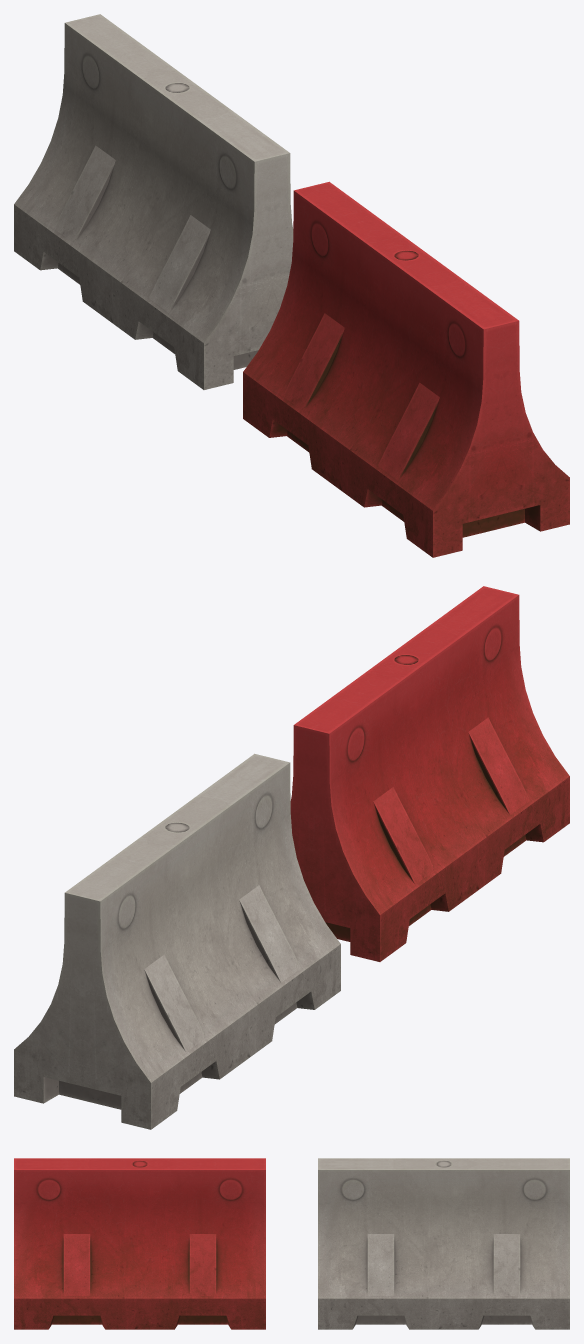
3 views of the same model, one above another, from view 1: azimuth 30°, elevation 25°; view 2: azimuth 150°, elevation 25°; view 3: azimuth 270°, elevation 25° (orthographic). The views are drawn at different scales.
Visible parts, largest first — view 1: road block red_0, road block white_1; view 2: road block white_1, road block red_0; view 3: road block red_0, road block white_1.
Boxes of the visible parts, x1,y1,x2,y2 form: road block red_0: (243, 181, 569, 557); road block white_1: (14, 14, 293, 389); road block white_1: (14, 753, 340, 1129); road block red_0: (290, 586, 569, 961); road block red_0: (14, 1158, 265, 1329); road block white_1: (318, 1158, 569, 1329).
Bounding box in the file's own units: 50 × 75.32 × 265.
Materials: 2 (2 with a texture image).
